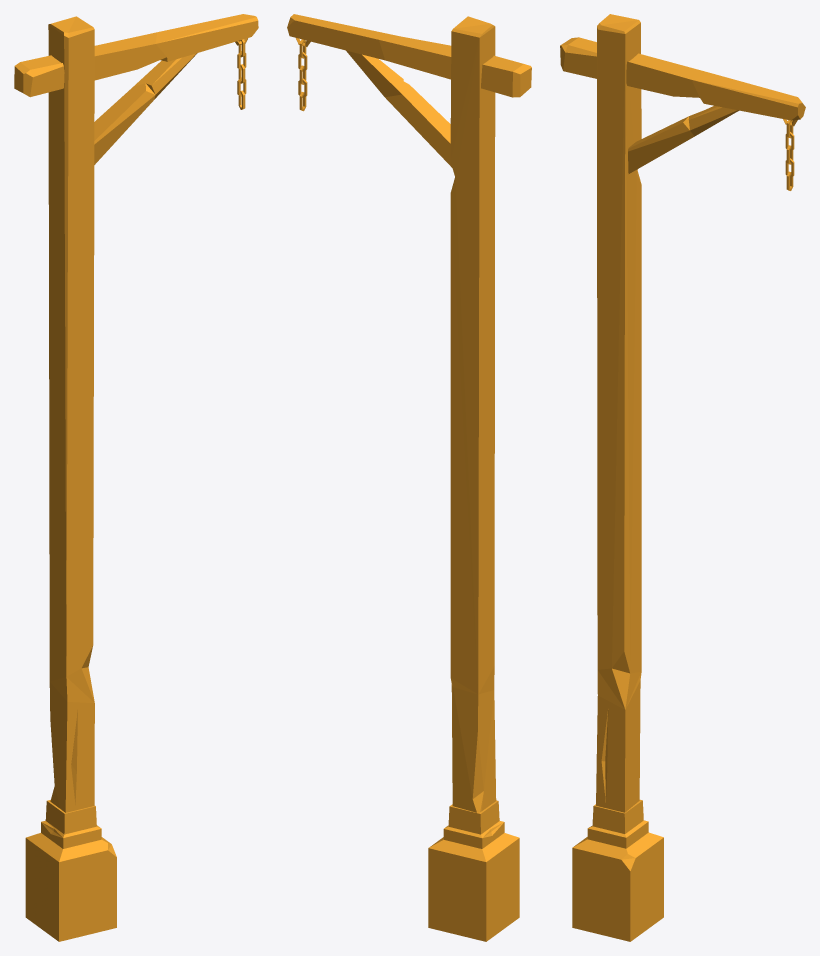
Rendered from SM_Lamp_Street_C_Fantasy.fbx.
The picture shows the model from 3 angles, left to right: view 1: azimuth 30°, elevation 25°; view 2: azimuth 150°, elevation 25°; view 3: azimuth 330°, elevation 25°; orthographic projection.
Parts seen in each view (by area): view 1: lamp-street-c-fantasy; view 2: lamp-street-c-fantasy; view 3: lamp-street-c-fantasy.
Boxes of the visible parts, box(x1,y1,x2,y2) form: lamp-street-c-fantasy: box(14, 14, 258, 941); lamp-street-c-fantasy: box(287, 14, 531, 941); lamp-street-c-fantasy: box(560, 14, 805, 941).
Size of the model in its own units: 1.13 by 4.11 by 0.2782.
